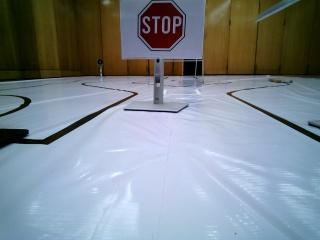stop: (119, 0, 202, 61)
